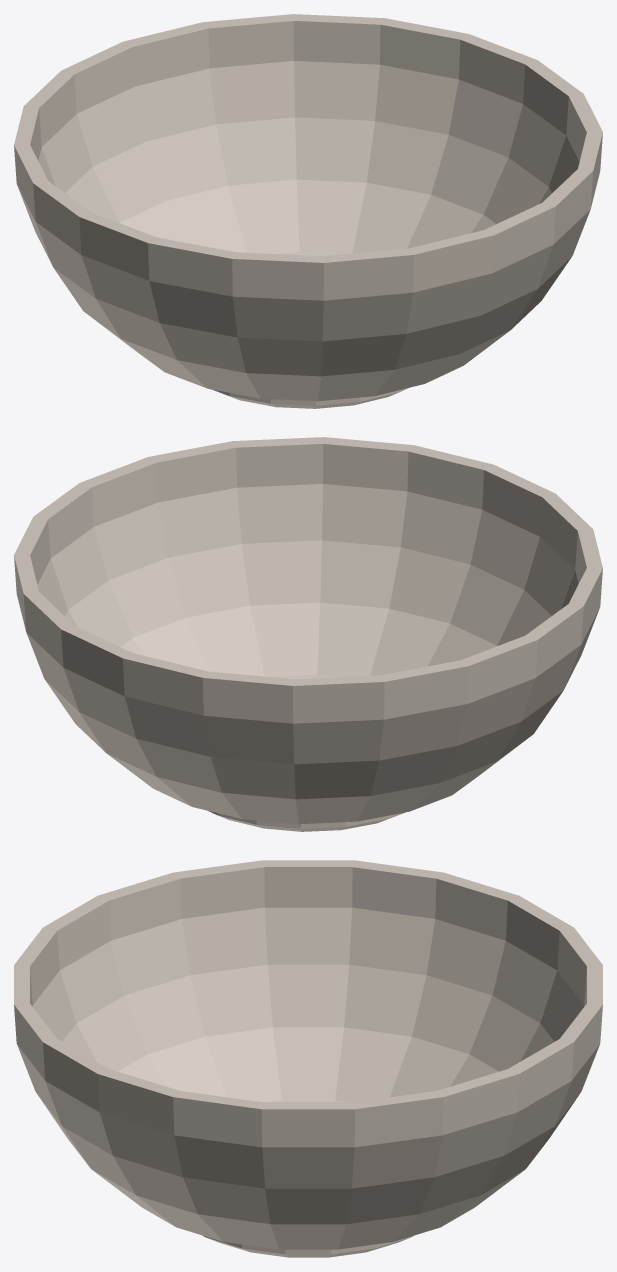
File: SM_Cook_PhoBowl_Empty_01.glb
3 renders of one model, top to bottom at view 1: azimuth 30°, elevation 25°; view 2: azimuth 150°, elevation 25°; view 3: azimuth 270°, elevation 25°, orthographic.
Parts seen in each view (by area): view 1: SM_Cook_PhoBowl_Empty_01; view 2: SM_Cook_PhoBowl_Empty_01; view 3: SM_Cook_PhoBowl_Empty_01.
Boxes of the visible parts, <box> form: SM_Cook_PhoBowl_Empty_01: <box>14,14,602,408</box>; SM_Cook_PhoBowl_Empty_01: <box>14,437,602,831</box>; SM_Cook_PhoBowl_Empty_01: <box>14,860,602,1257</box>.
Size of the model in its own units: 0.2173 by 0.0894 by 0.2173.
1 material, 1 textured.
